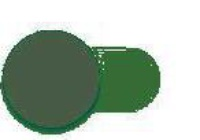Switch: (1, 1, 199, 139)
